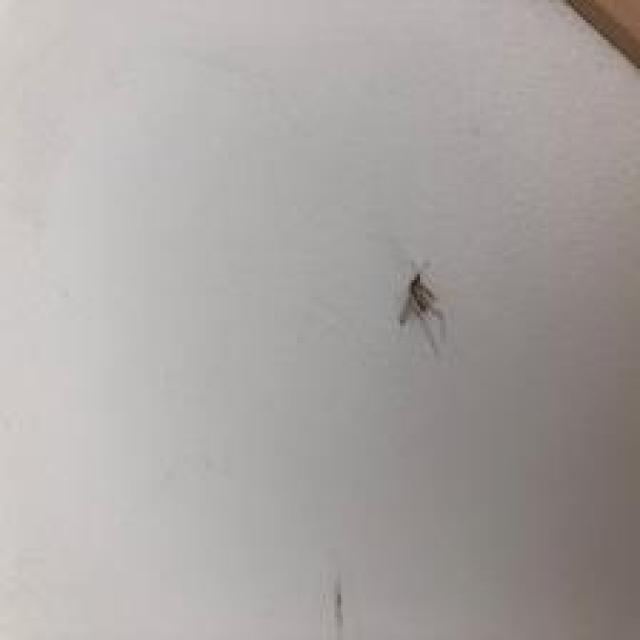Culex: (396, 261, 447, 356)
